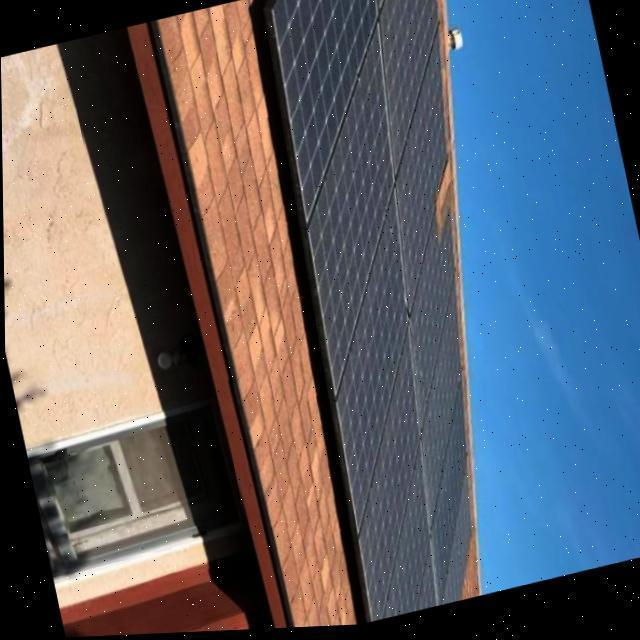Surface Contaminant: (270, 0, 481, 625)
